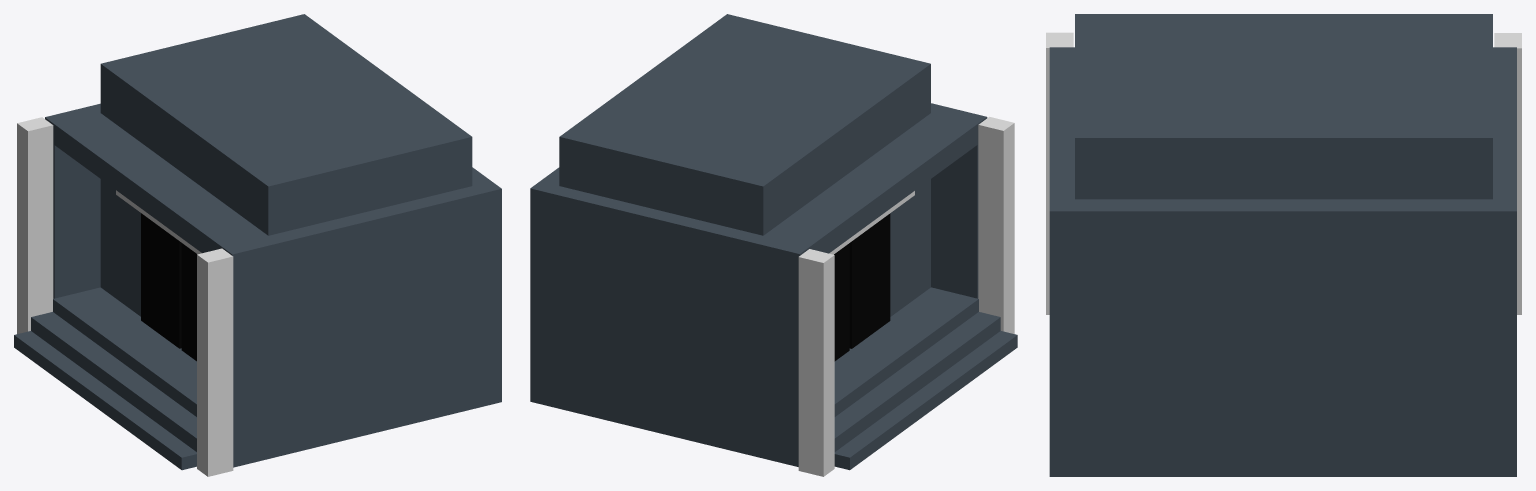
File: lab.fbx
3 views of the same model, side by side, from view 1: azimuth 30°, elevation 25°; view 2: azimuth 150°, elevation 25°; view 3: azimuth 270°, elevation 25° (orthographic). The views are drawn at different scales.
Visible parts, largest first — view 1: Cube, Cube.005, Cube.004, Cube.001, Cube.002; view 2: Cube, Cube.004, Cube.005, Cube.002, Cube.001; view 3: Cube, Cube.004, Cube.005.
Part boxes in pixels (x1,y1,x2,y2): Cube: (14, 14, 501, 470); Cube.005: (197, 248, 233, 476); Cube.004: (17, 117, 53, 333); Cube.001: (141, 213, 181, 348); Cube.002: (181, 243, 197, 361); Cube: (530, 14, 1017, 470); Cube.004: (798, 249, 834, 476); Cube.005: (978, 116, 1014, 333); Cube.002: (849, 213, 890, 348); Cube.001: (834, 243, 849, 361); Cube: (1049, 14, 1516, 476); Cube.004: (1494, 33, 1521, 314); Cube.005: (1046, 32, 1073, 314).
Bounding box in the file's own units: 1870 × 1524 × 1996.
